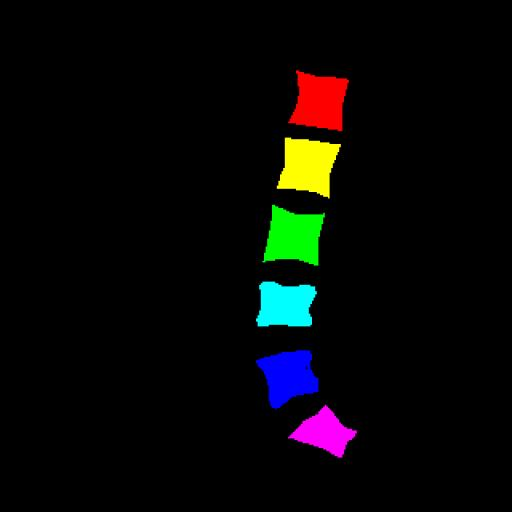L1: (289, 71, 349, 130)
L2: (277, 137, 341, 198)
L3: (263, 205, 325, 266)
L4: (256, 282, 317, 326)
L5: (256, 350, 318, 408)
S1: (288, 405, 357, 458)
